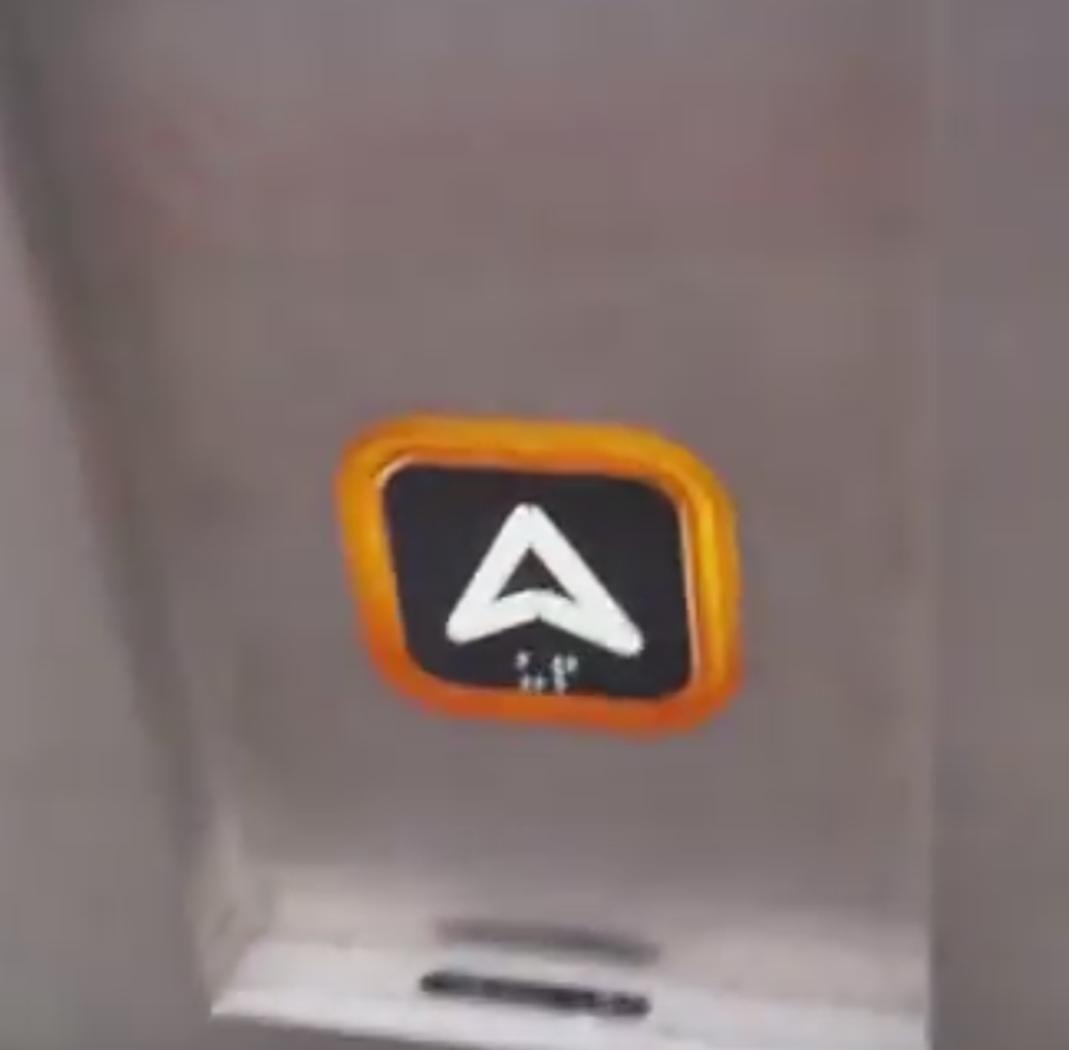up: (337, 417, 737, 737)
